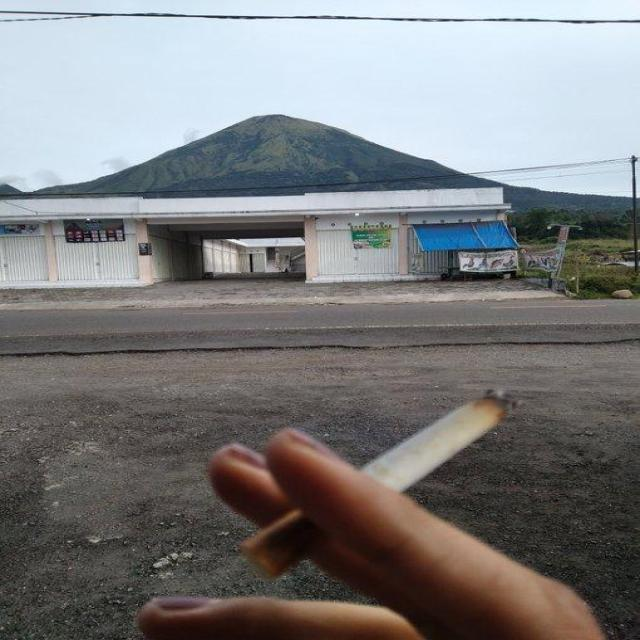rokok: (248, 380, 500, 558)
